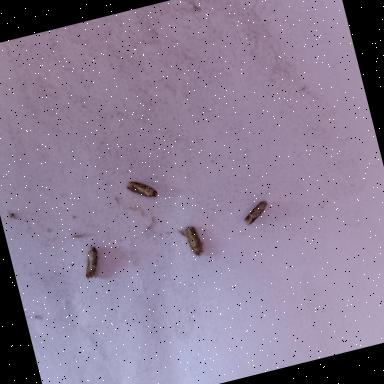pbw: (126, 173, 161, 204), (177, 222, 205, 260), (78, 244, 104, 280), (241, 198, 272, 224)
